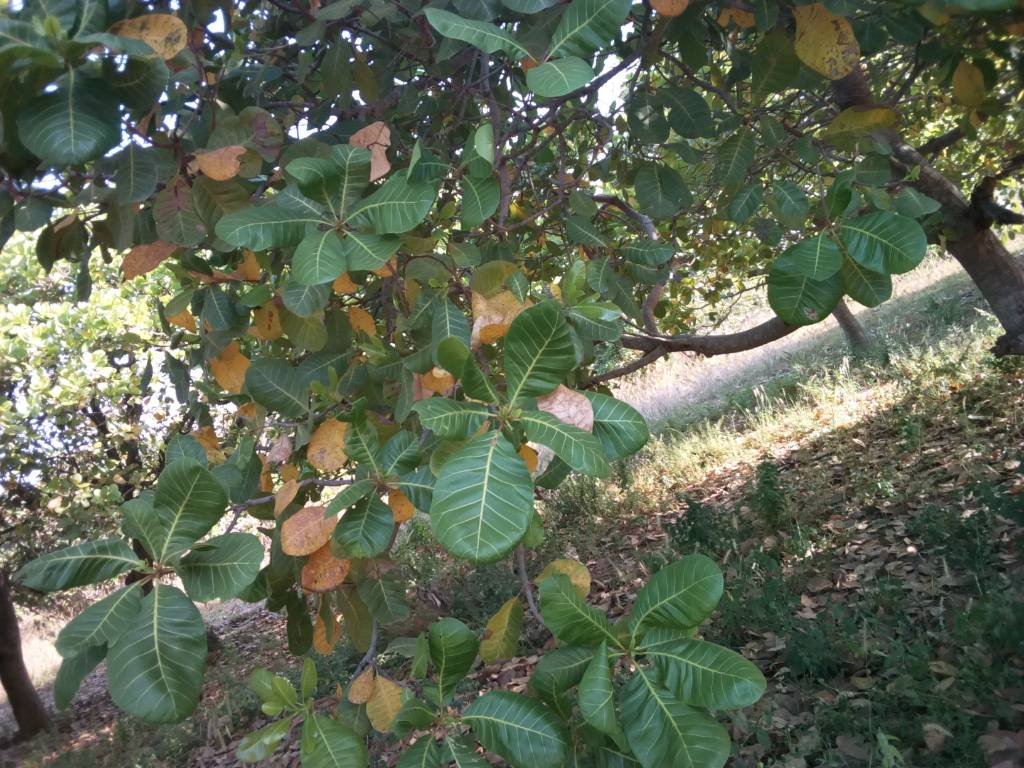Helopeltis anacardii: (421, 620, 470, 697), (340, 399, 383, 483)
